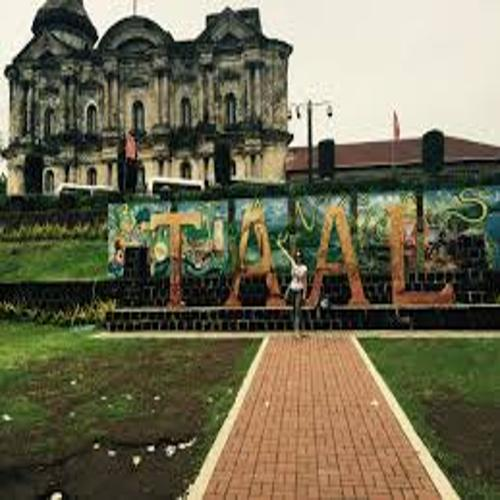Taal Basilica Church: (5, 1, 307, 192)
